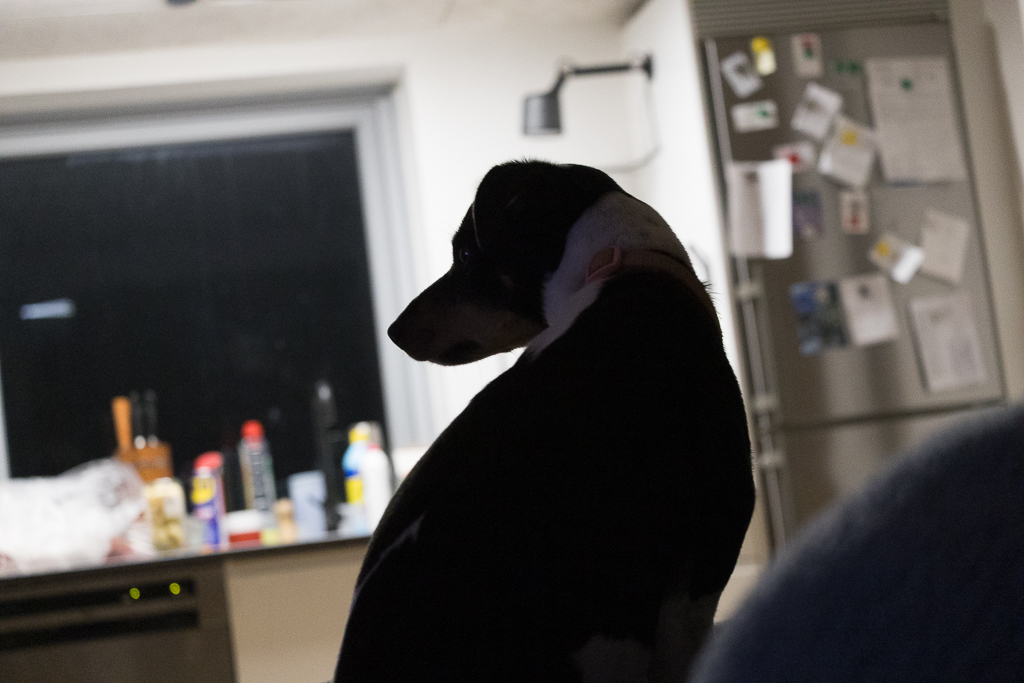Dog: (307, 152, 771, 683)
